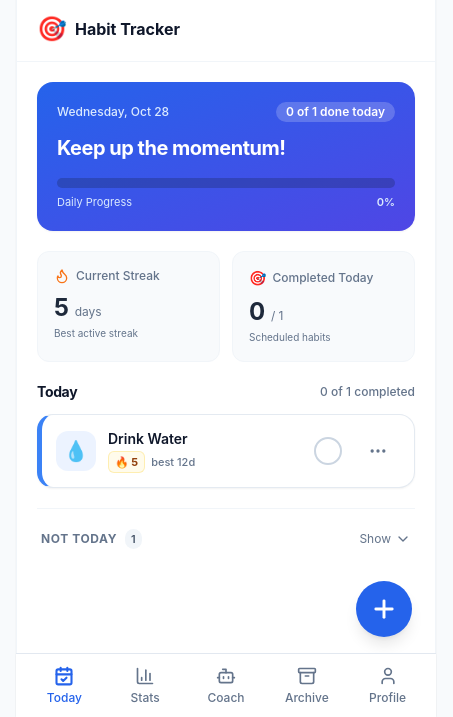
Test: DashboardPage Mobile View › splits scheduled habits into Today and unscheduled into collapsed Not Today section
The width and height of the screenshot is (453, 717).
Expected: the heading "Drink Water" is shown, [108, 430, 188, 446]
Expected: the text "Gym Workout" is not shown
Click the button "Not today 1 Show" at x=79, y=538, box [37, 517, 415, 561]
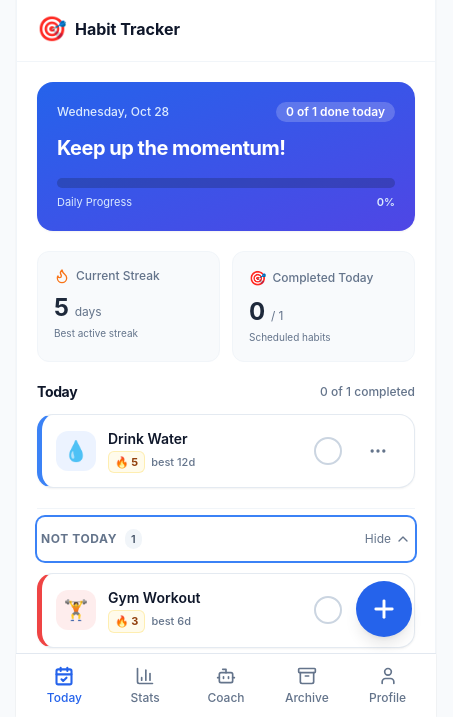
Result: the button "Not today 1 Hide" is expanded
Result: the heading "Gym Workout" is shown at [108, 589, 200, 606]
Result: the text "🏋️" is shown at [56, 590, 96, 630]
Collapsing it again hides it
Click the button "Not today 1 Hide" at x=79, y=538, box [37, 517, 415, 561]
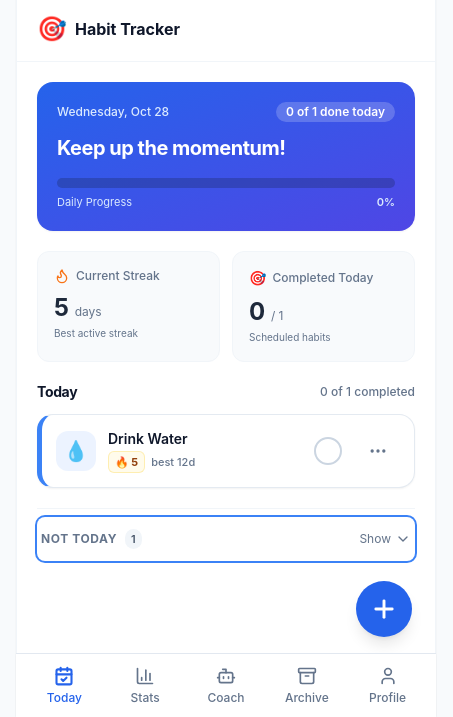
Result: the button "Gym Workout" is gone
